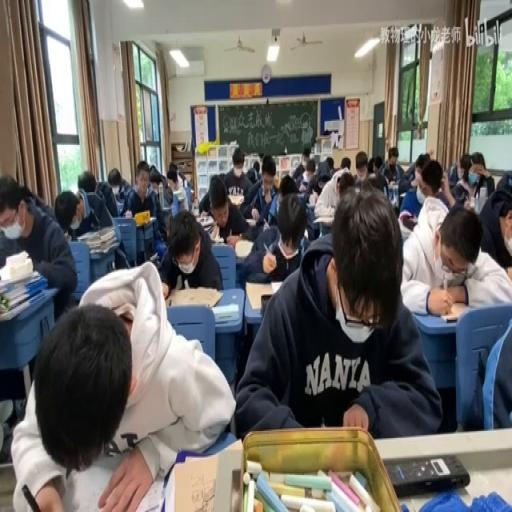calculator: (60, 452, 162, 511), (169, 453, 221, 512), (0, 289, 44, 320), (75, 224, 117, 254), (166, 286, 222, 308), (0, 268, 44, 294), (440, 300, 468, 320), (213, 302, 238, 322), (233, 238, 254, 258), (398, 218, 413, 240), (312, 213, 334, 225), (160, 198, 172, 218), (270, 278, 284, 292), (228, 193, 244, 205), (210, 233, 226, 245), (202, 219, 214, 233), (114, 198, 124, 214), (244, 216, 256, 225), (196, 212, 209, 220), (306, 196, 315, 206), (149, 252, 158, 260), (398, 191, 406, 199)
paper: (232, 182, 434, 438), (2, 172, 75, 435), (398, 190, 509, 313), (466, 303, 512, 431), (157, 209, 221, 296), (123, 159, 169, 255), (202, 176, 252, 245), (402, 156, 453, 219), (72, 169, 118, 232), (244, 159, 282, 229), (464, 150, 494, 200), (379, 145, 403, 189), (307, 155, 333, 195), (164, 161, 186, 202), (290, 144, 312, 184), (446, 155, 464, 195), (352, 151, 370, 185), (493, 171, 512, 203), (336, 169, 355, 195), (278, 175, 298, 196), (148, 165, 163, 192), (107, 168, 122, 189), (414, 154, 428, 172), (372, 154, 382, 176), (232, 154, 245, 170), (382, 179, 392, 199), (251, 159, 260, 179), (340, 155, 350, 169), (306, 169, 314, 182), (326, 155, 332, 169), (274, 175, 280, 189), (302, 148, 310, 158), (429, 148, 434, 158)
person: (384, 454, 470, 496), (259, 293, 272, 314)
